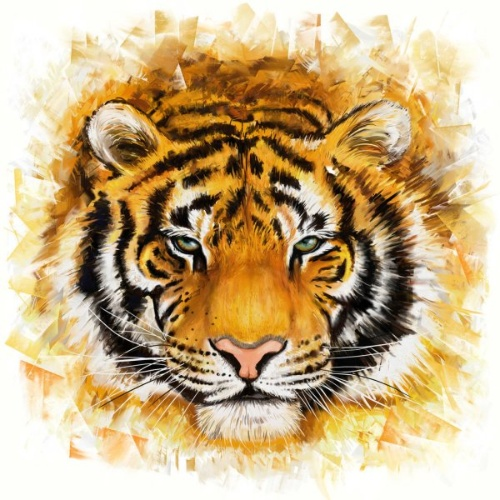tiger: (57, 32, 401, 429)
